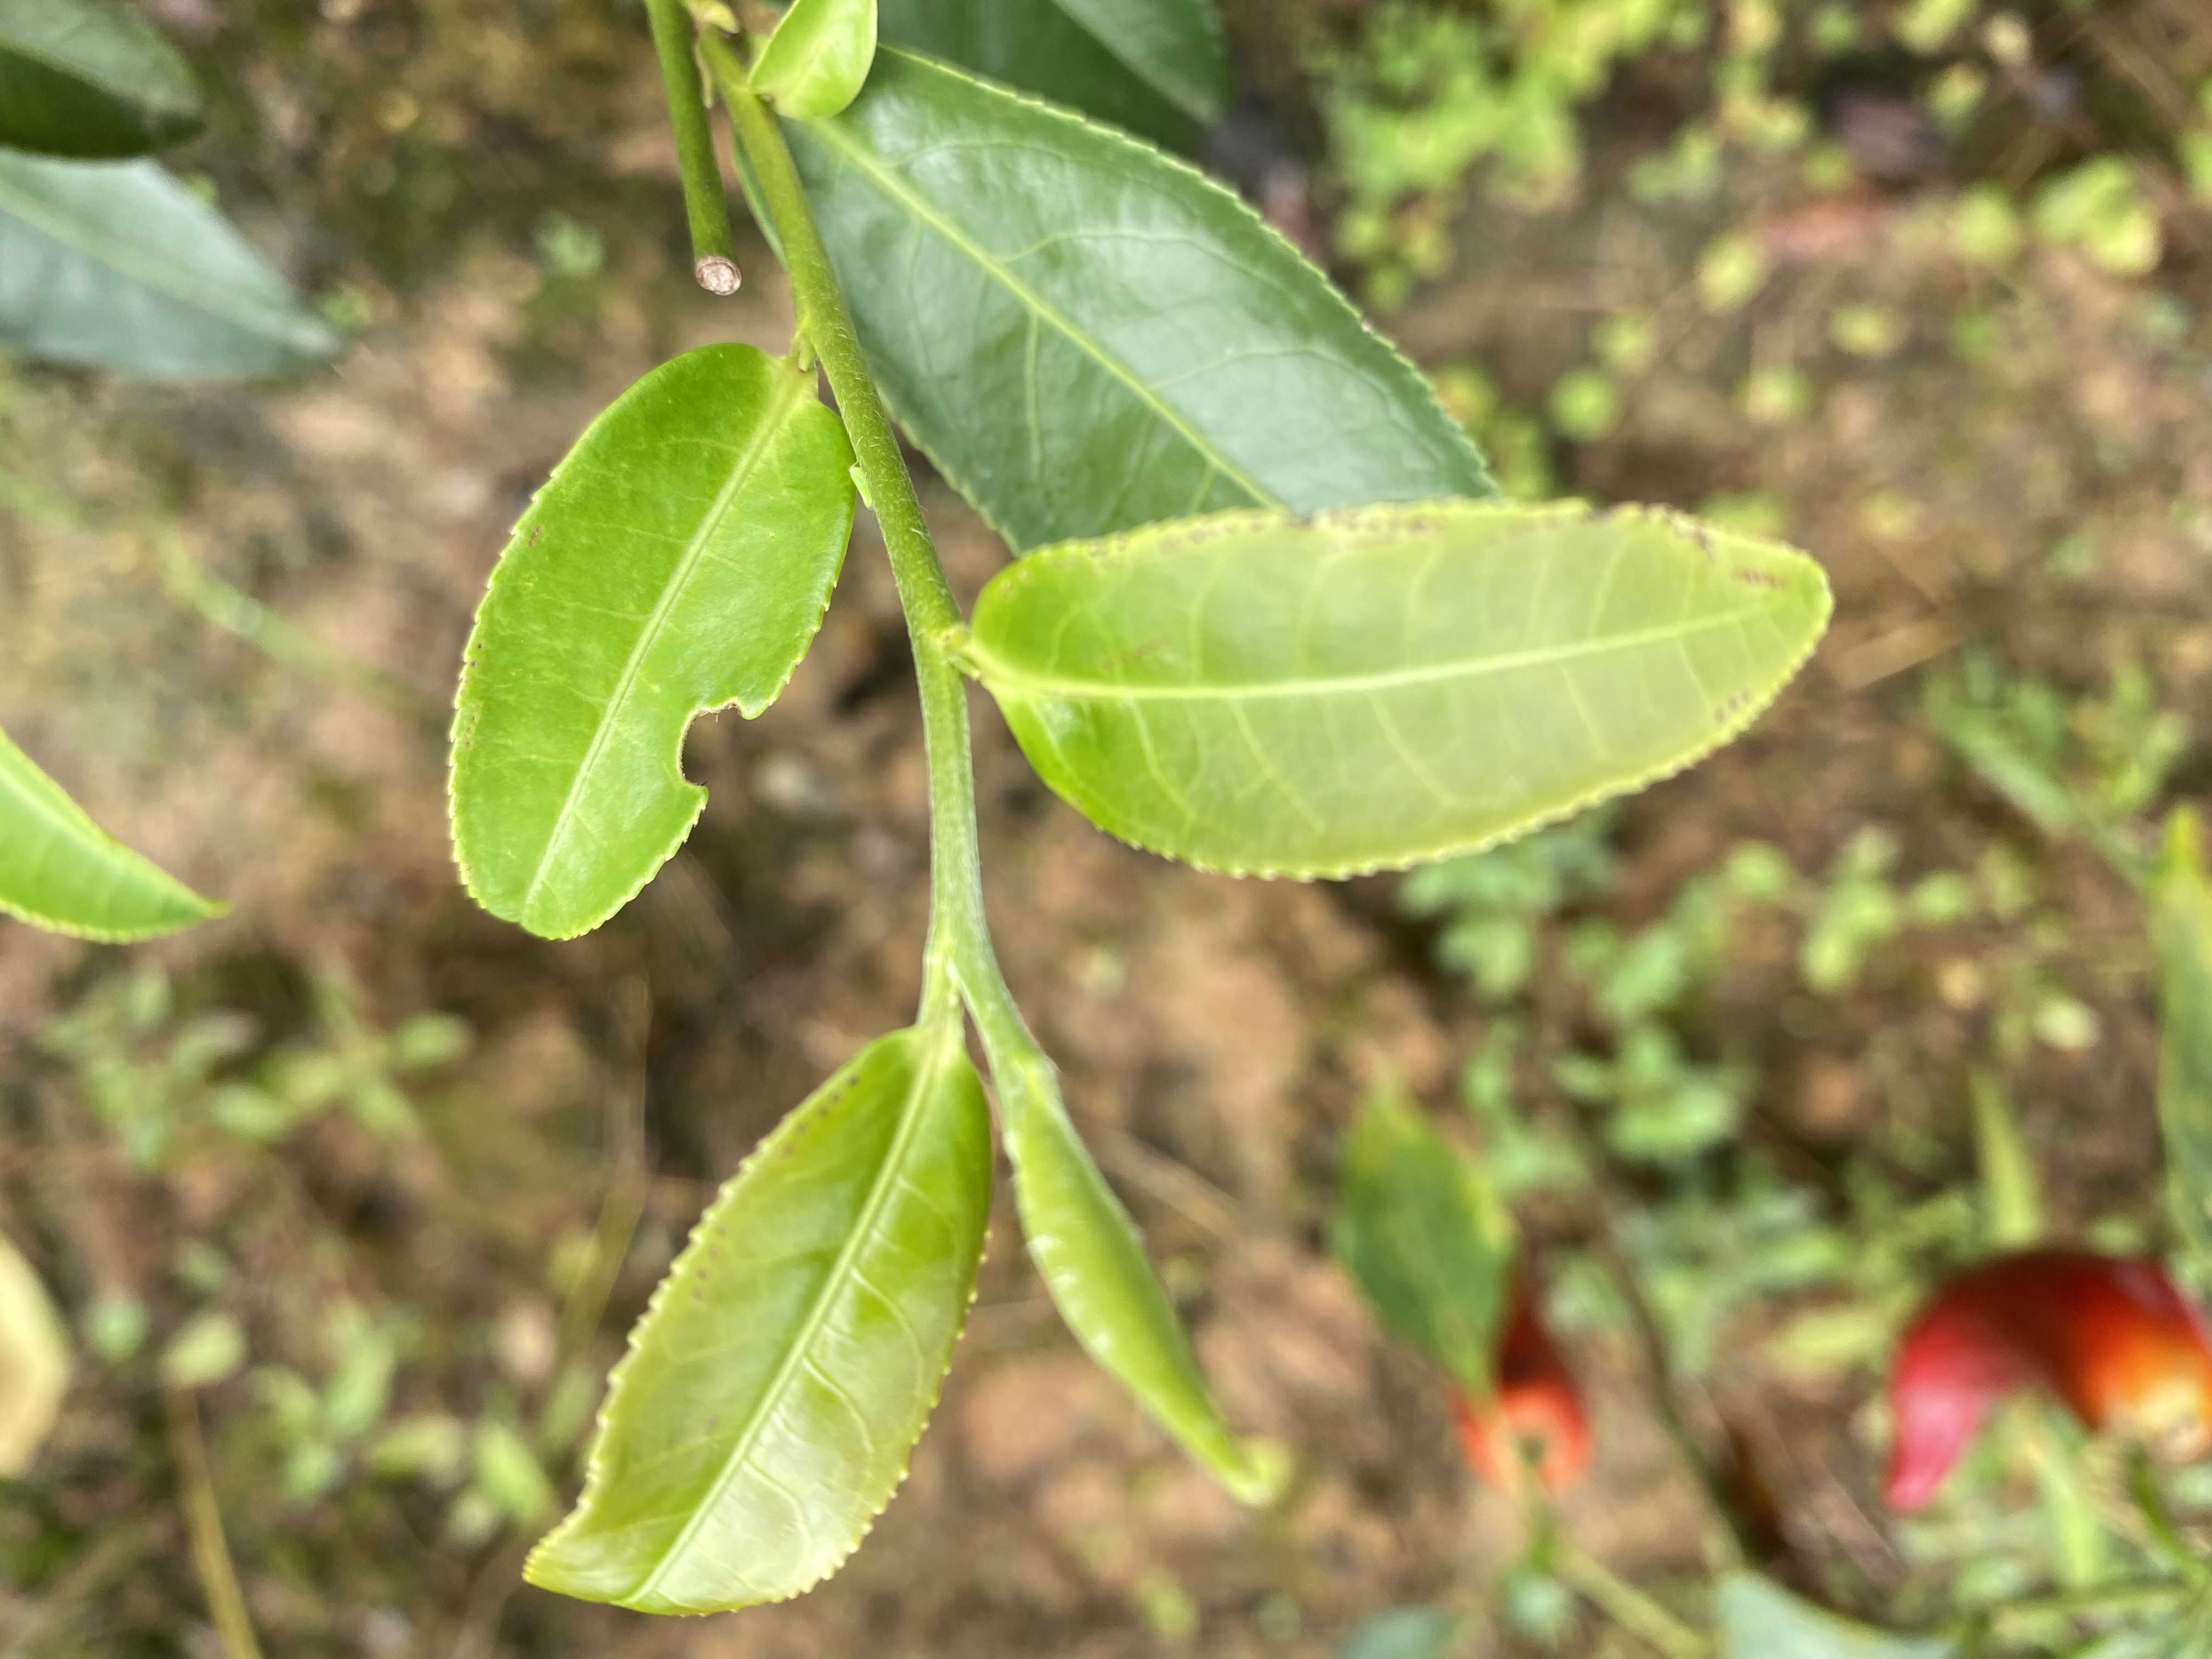chihuo_low: (437, 340, 859, 943)
healthy: (803, 44, 1514, 497)
tanju_low: (956, 497, 1831, 885), (524, 1026, 996, 1615)
